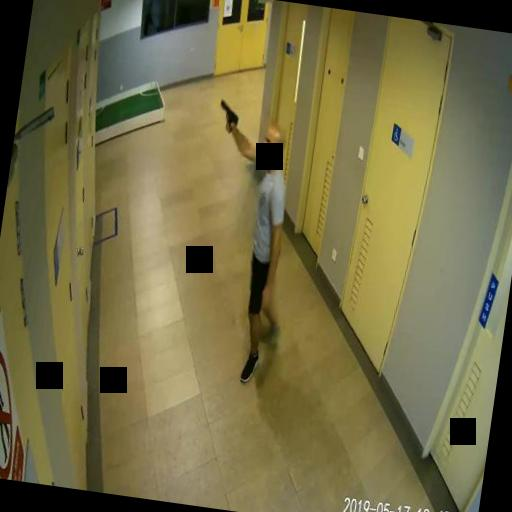Handgun: (216, 100, 239, 132)
